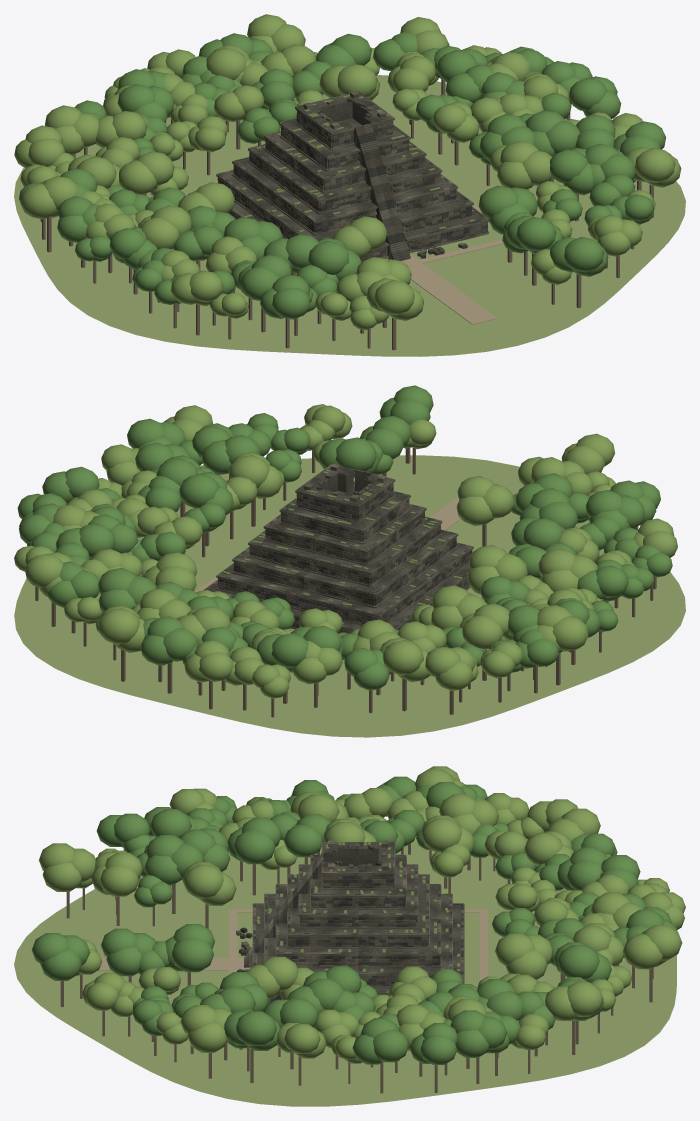
File: koh-ker-ultra.glb
3 views of the same model, one above another, from view 1: azimuth 30°, elevation 25°; view 2: azimuth 150°, elevation 25°; view 3: azimuth 270°, elevation 25° (orthographic).
Parts seen in each view (by area): view 1: Batched | Canopy 1, Batched | Canopy 0, Batched | Grassy clearing, Batched | Weathered sandstone 0, Batched | Weathered sandstone 1, Batched | Weathered sandstone 2, Batched | Weathered sandstone 3, Batched | Bark, Batched | Earth paths, Batched | Ledge plants; view 2: Batched | Canopy 0, Batched | Canopy 1, Batched | Grassy clearing, Batched | Weathered sandstone 0, Batched | Weathered sandstone 1, Batched | Weathered sandstone 3, Batched | Weathered sandstone 2, Batched | Bark, Batched | Ledge plants, Batched | Earth paths; view 3: Batched | Canopy 1, Batched | Canopy 0, Batched | Grassy clearing, Batched | Weathered sandstone 0, Batched | Weathered sandstone 1, Batched | Bark, Batched | Weathered sandstone 2, Batched | Weathered sandstone 3, Batched | Earth paths, Batched | Ledge plants.
Part boxes in pixels (x1,y1,x2,y2): Batched | Canopy 1: (14, 14, 681, 329); Batched | Canopy 0: (19, 31, 665, 319); Batched | Grassy clearing: (14, 75, 685, 356); Batched | Weathered sandstone 0: (221, 94, 487, 260); Batched | Weathered sandstone 1: (216, 91, 489, 259); Batched | Weathered sandstone 2: (218, 92, 487, 259); Batched | Weathered sandstone 3: (217, 93, 487, 261); Batched | Bark: (40, 79, 653, 350); Batched | Earth paths: (185, 193, 503, 324); Batched | Ledge plants: (241, 94, 475, 232); Batched | Canopy 0: (17, 385, 672, 690); Batched | Canopy 1: (14, 404, 677, 698); Batched | Grassy clearing: (14, 455, 685, 737); Batched | Weathered sandstone 0: (208, 467, 470, 633); Batched | Weathered sandstone 1: (203, 463, 473, 633); Batched | Weathered sandstone 3: (209, 469, 472, 633); Batched | Weathered sandstone 2: (204, 472, 472, 631); Batched | Bark: (35, 447, 656, 717); Batched | Ledge plants: (222, 466, 462, 623); Batched | Earth paths: (195, 497, 483, 599); Batched | Canopy 1: (39, 766, 685, 1063); Batched | Canopy 0: (31, 776, 677, 1064); Batched | Grassy clearing: (14, 836, 676, 1106); Batched | Weathered sandstone 0: (241, 842, 463, 999); Batched | Weathered sandstone 1: (236, 840, 464, 995); Batched | Bark: (60, 843, 653, 1093); Batched | Weathered sandstone 2: (237, 842, 463, 999); Batched | Weathered sandstone 3: (239, 842, 463, 1002); Batched | Earth paths: (98, 909, 488, 980); Batched | Ledge plants: (256, 841, 460, 972).
Bounding box in the file's own units: 23.31 × 4.25 × 23.31.
10 materials, 4 textured.
